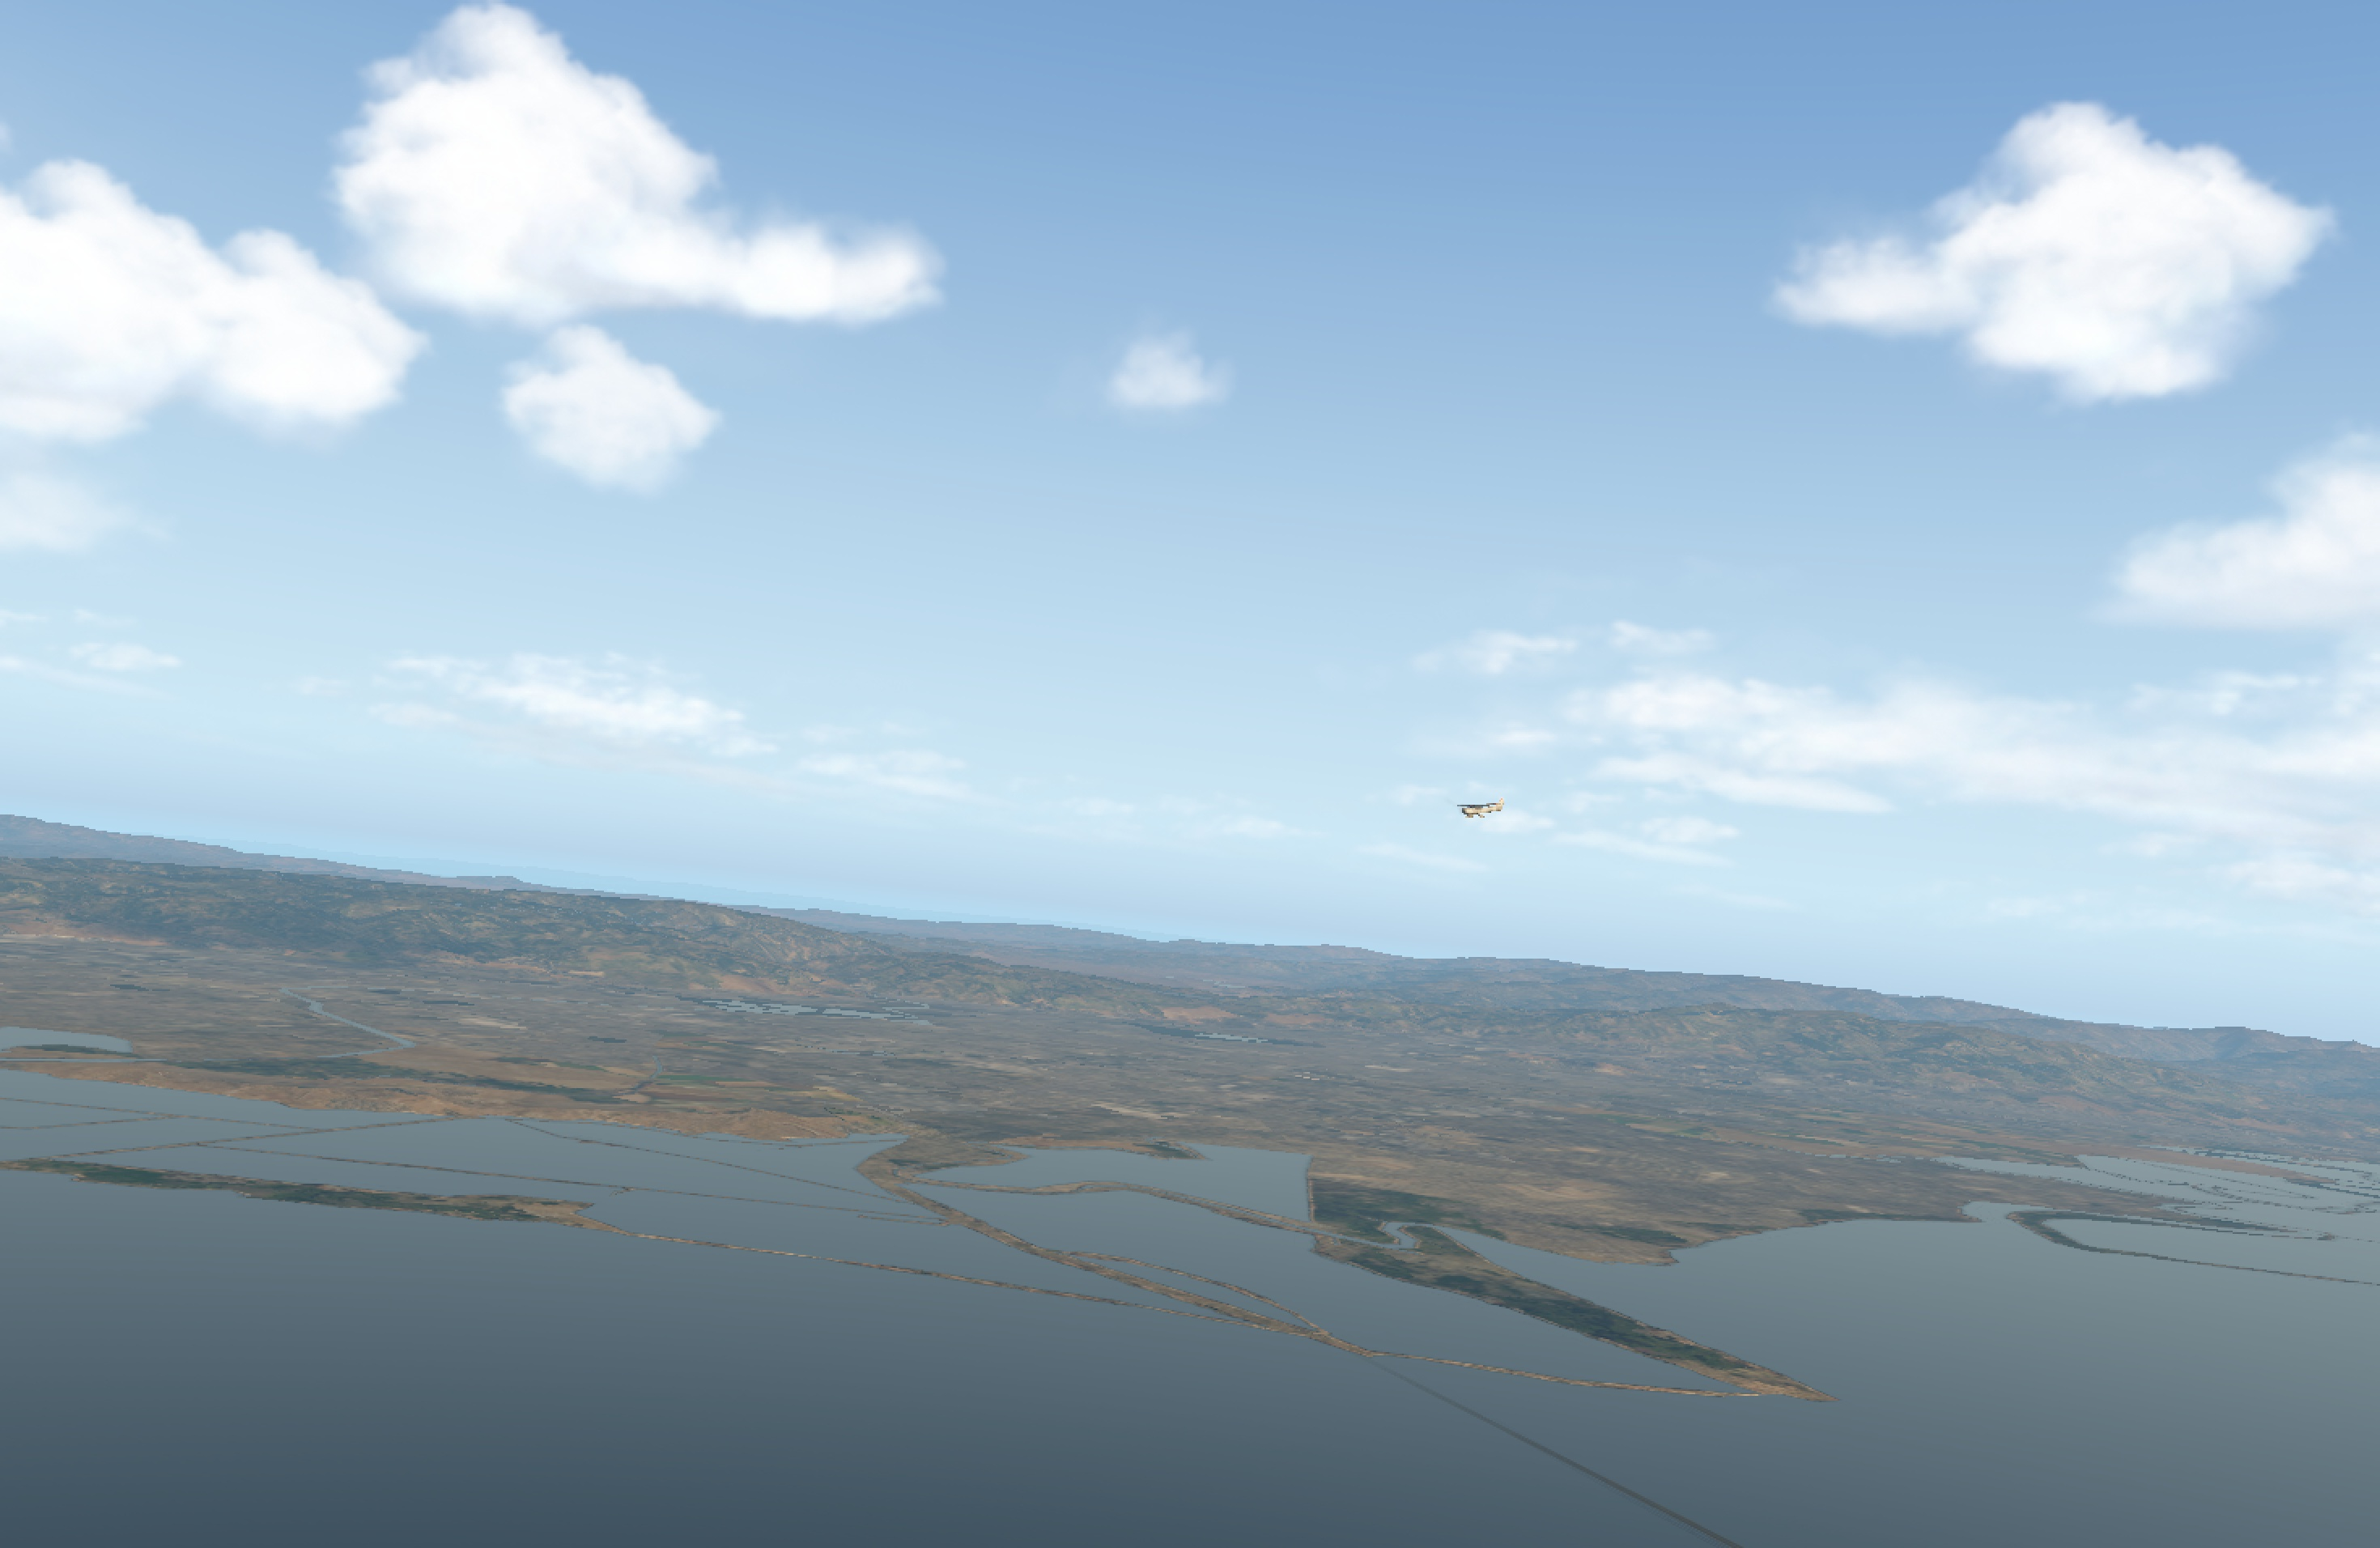aircraft: (1447, 800, 1501, 819)
